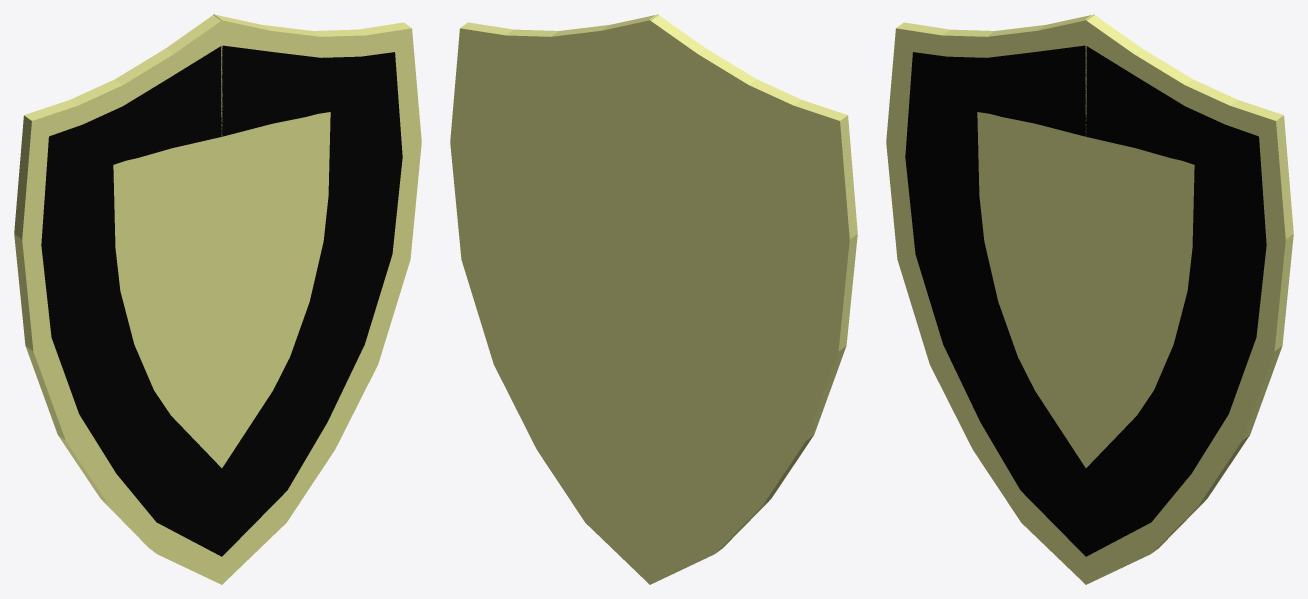
The model's file is PlayerShield.fbx.
The picture shows the model from 3 angles, left to right: view 1: azimuth 30°, elevation 25°; view 2: azimuth 150°, elevation 25°; view 3: azimuth 330°, elevation 25°; orthographic projection.
Parts seen in each view (by area): view 1: Cube.001; view 2: Cube.001; view 3: Cube.001.
Part boxes in pixels (x1,y1,x2,y2): Cube.001: (14,14,421,584); Cube.001: (450,14,857,584); Cube.001: (886,14,1293,584).
Size of the model in its own units: 70.37 by 95.07 by 2.45.
